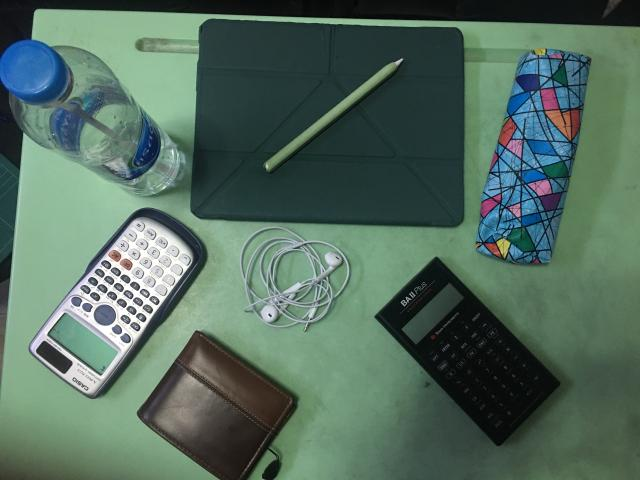Wallet: (138, 331, 295, 479)
bottle: (0, 40, 180, 195)
wire: (240, 226, 350, 330)
